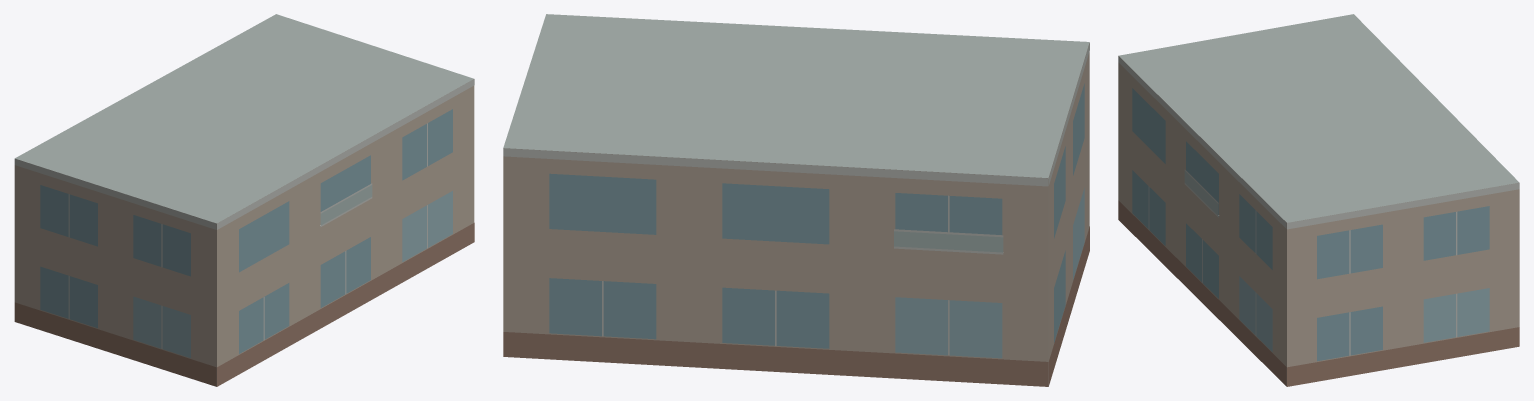
Rendered from survey-upis-32853906.glb.
3 views of the same model, side by side, from view 1: azimuth 30°, elevation 25°; view 2: azimuth 150°, elevation 25°; view 3: azimuth 270°, elevation 25° (orthographic). The views are drawn at different scales.
Visible parts, largest first — view 1: survey-upis-32853906.tmp; view 2: survey-upis-32853906.tmp; view 3: survey-upis-32853906.tmp.
Boxes of the visible parts, <box> form: survey-upis-32853906.tmp: <box>14,14,474,386</box>; survey-upis-32853906.tmp: <box>503,14,1089,386</box>; survey-upis-32853906.tmp: <box>1118,14,1519,386</box>.
Size of the model in its own units: 16.68 by 6.1 by 13.54.
